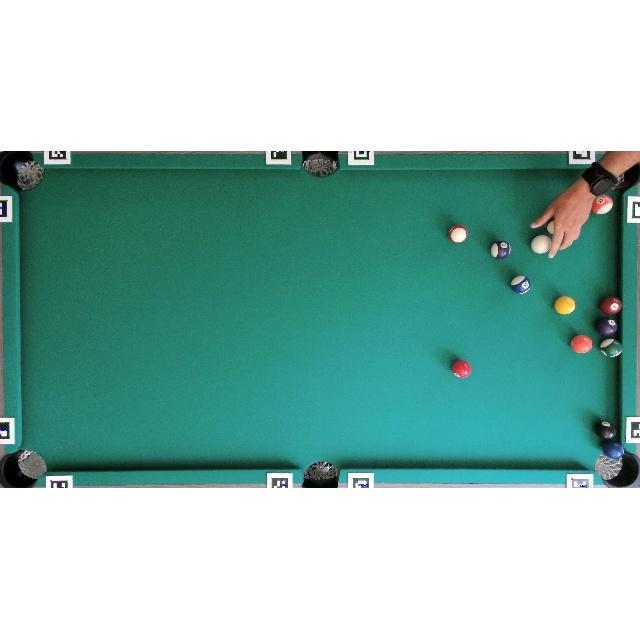cue ball: (531, 236, 551, 254)
other: (553, 295, 576, 315), (571, 334, 593, 354), (600, 338, 622, 358), (591, 195, 613, 215), (595, 420, 617, 440), (595, 318, 618, 337), (600, 296, 622, 315), (602, 440, 624, 459), (510, 276, 531, 295), (452, 359, 472, 378), (448, 224, 468, 243), (491, 241, 511, 259), (544, 219, 556, 236)
